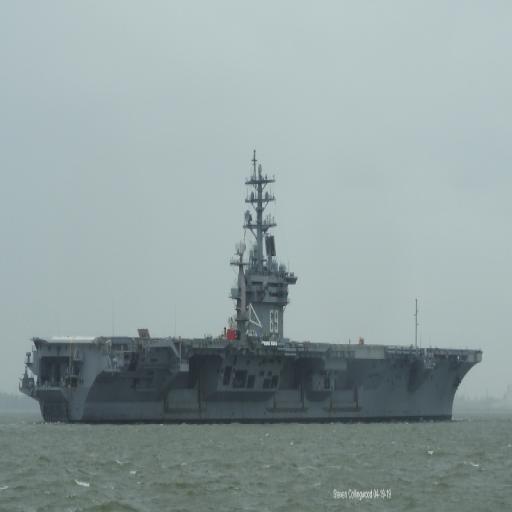Portanaves: (18, 138, 487, 433)
